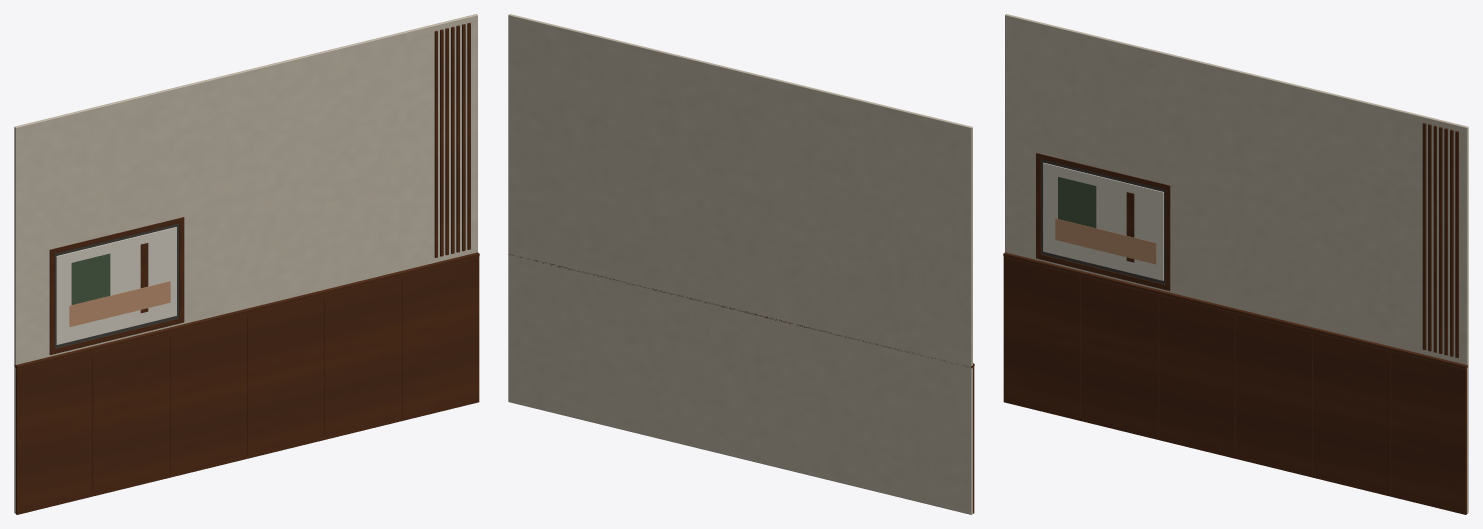
File: bedroom-surround.glb
3 renders of one model, left to right at view 1: azimuth 30°, elevation 25°; view 2: azimuth 150°, elevation 25°; view 3: azimuth 330°, elevation 25°, orthographic.
Parts seen in each view (by area): view 1: CANONICAL continuous plaster, ACCENT continuous walnut wainscot, ACCENT artwork canvas, ACCENT continuous walnut cap, ACCENT artwork clay horizon, ACCENT artwork sage plane, ACCENT artwork shadow mount, ACCENT window end flute.004, ACCENT window end flute.005, ACCENT window end flute.001, ACCENT window end flute.002, ACCENT window end flute.003 (+6 smaller); view 2: CANONICAL continuous plaster; view 3: CANONICAL continuous plaster, ACCENT continuous walnut wainscot, ACCENT artwork canvas, ACCENT continuous walnut cap, ACCENT artwork clay horizon, ACCENT artwork sage plane, ACCENT artwork shadow mount, ACCENT window end flute, ACCENT window end flute.005, ACCENT window end flute.001, ACCENT window end flute.002, ACCENT window end flute.004 (+6 smaller).
Boxes of the visible parts, box(x1,y1,x2,y2) form: CANONICAL continuous plaster: box(14, 14, 477, 513); ACCENT continuous walnut wainscot: box(16, 256, 479, 514); ACCENT artwork canvas: box(56, 227, 176, 344); ACCENT continuous walnut cap: box(14, 252, 479, 368); ACCENT artwork clay horizon: box(69, 281, 170, 327); ACCENT artwork sage plane: box(71, 253, 110, 304); ACCENT artwork shadow mount: box(55, 223, 178, 348); ACCENT window end flute.004: box(456, 25, 459, 252); ACCENT window end flute.005: box(462, 24, 465, 251); ACCENT window end flute.001: box(440, 29, 443, 256); ACCENT window end flute.002: box(445, 28, 448, 255); ACCENT window end flute.003: box(451, 26, 454, 253); CANONICAL continuous plaster: box(508, 14, 972, 514); CANONICAL continuous plaster: box(1005, 14, 1468, 513); ACCENT continuous walnut wainscot: box(1003, 256, 1466, 514); ACCENT artwork canvas: box(1043, 162, 1163, 280); ACCENT continuous walnut cap: box(1003, 252, 1467, 368); ACCENT artwork clay horizon: box(1055, 218, 1156, 264); ACCENT artwork sage plane: box(1058, 176, 1096, 228); ACCENT artwork shadow mount: box(1041, 159, 1165, 284); ACCENT window end flute: box(1422, 123, 1426, 349); ACCENT window end flute.005: box(1450, 129, 1453, 356); ACCENT window end flute.001: box(1428, 124, 1431, 351); ACCENT window end flute.002: box(1433, 125, 1436, 352); ACCENT window end flute.004: box(1444, 128, 1447, 355).
Size of the model in its own units: 3.38 by 2.7 by 0.04.
6 materials, 3 textured.
